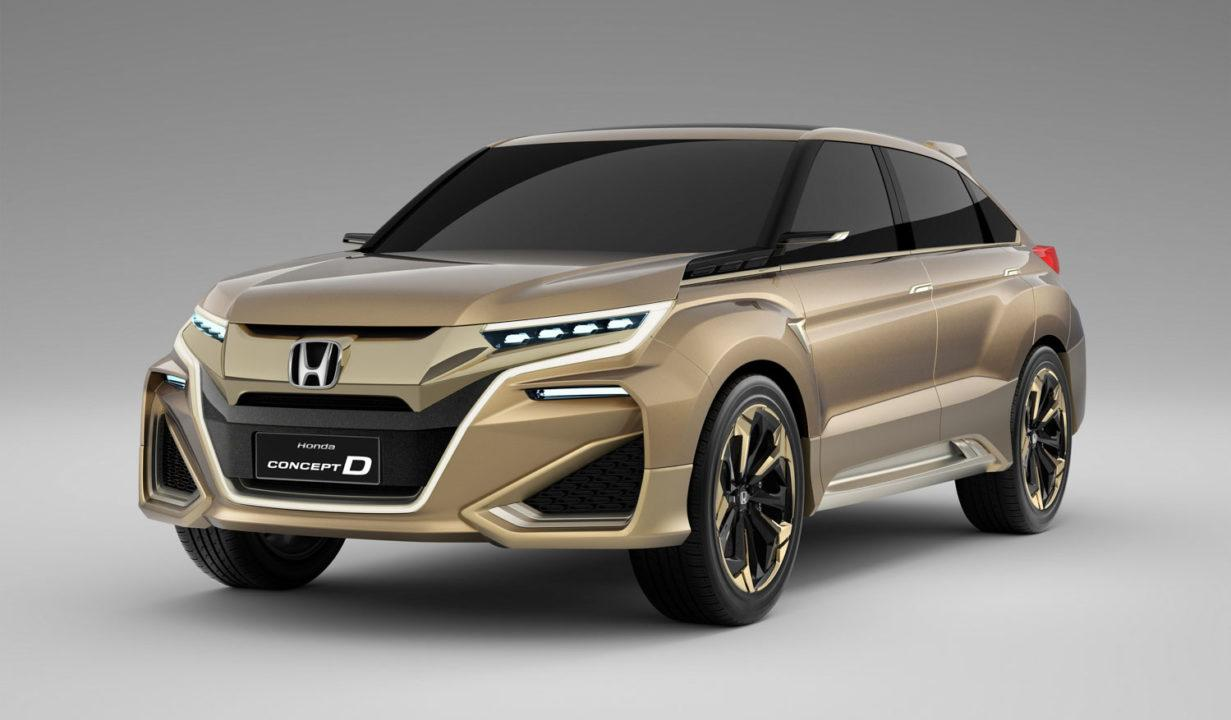car: (130, 119, 1093, 630)
